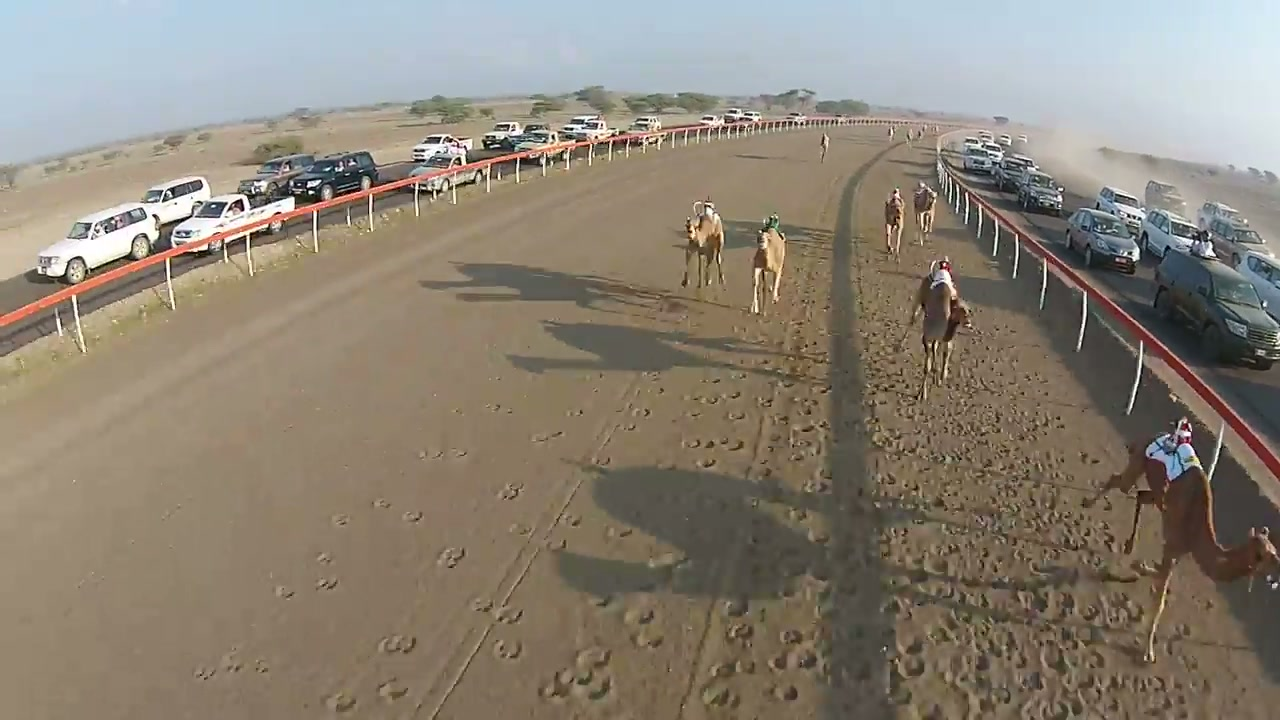animal_footprint: (251, 245, 1237, 719), (455, 259, 846, 717), (690, 287, 837, 715), (539, 646, 614, 706), (539, 668, 613, 702), (193, 647, 245, 679), (700, 679, 737, 707), (574, 645, 611, 669), (682, 437, 745, 451), (647, 552, 688, 572), (377, 634, 416, 653), (376, 678, 407, 701), (632, 627, 664, 648), (324, 692, 356, 713), (418, 447, 469, 460), (493, 638, 522, 660), (437, 547, 466, 569), (725, 622, 754, 643), (624, 607, 654, 627), (494, 605, 523, 624), (722, 599, 748, 617), (530, 431, 565, 444), (588, 593, 615, 609), (497, 483, 523, 499), (558, 512, 581, 527), (470, 597, 493, 612), (607, 525, 633, 538), (315, 576, 338, 590), (193, 666, 216, 680), (484, 403, 513, 414), (508, 523, 532, 536), (251, 658, 270, 674), (544, 537, 567, 550), (402, 510, 423, 524), (331, 513, 350, 526), (696, 457, 716, 469), (275, 585, 293, 598), (315, 552, 332, 565), (727, 410, 746, 421), (372, 498, 390, 508)
